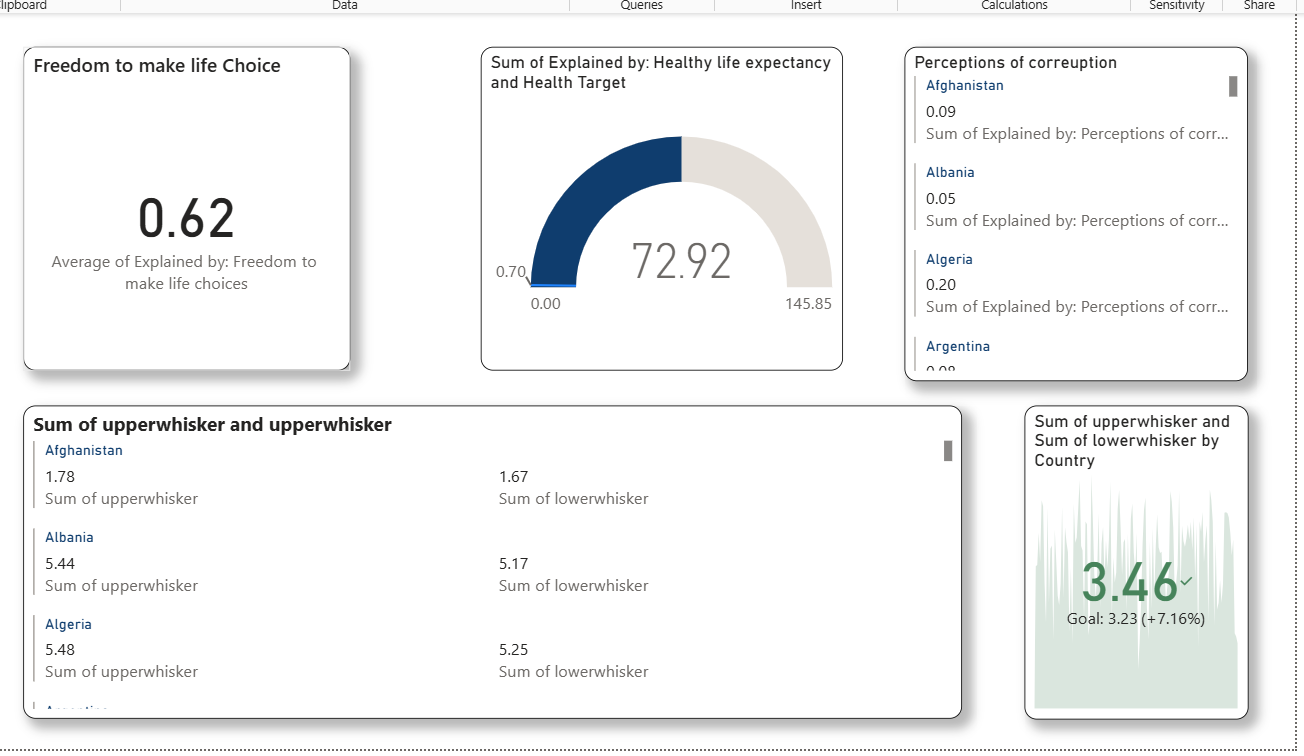

This screenshot's page, from the dashboard's own definition file:
{"tool":"powerbi","page":{"name":"Page 2","canvas":[1280,720],"ordinal":1},"visuals":[{"type":"gauge","fields":{"Y":["Sum(whr2024.Explained by: Healthy life expectancy)"],"TargetValue":["whr2024.Health Target"]},"box":[482.9,32.9,354.3,317.1],"z":0},{"type":"card","title":"Freedom to make life Choice","fields":{"Values":["Avg(whr2024.Explained by: Freedom to make life choices)"]},"box":[35.7,32.9,320,317.1],"z":1000},{"type":"multiRowCard","title":"Perceptions of  correuption","fields":{"Values":["whr2024.Country","Sum(whr2024.Explained by: Perceptions of corruption)"]},"box":[897.1,32.9,335.7,327.1],"z":2000},{"type":"multiRowCard","title":"Sum of upperwhisker and upperwhisker","fields":{"Values":["whr2024.Country","Sum(whr2024.upperwhisker)","Sum(whr2024.lowerwhisker)"]},"box":[35.6,383.8,918.7,306.7],"z":3000},{"type":"kpi","fields":{"Indicator":["Sum(whr2024.upperwhisker)"],"TrendLine":["whr2024.Country"],"Goal":["Sum(whr2024.lowerwhisker)"]},"box":[1015,384,218.9,306.9],"z":4000}]}

Visuals, with their boxes in screenshot pixels (x1, y1, x2, y2):
gauge - Sum(whr2024.Explained by: Healthy life expectancy) x whr2024.Health Target: <bbox>489, 53, 845, 372</bbox>
"Freedom to make life Choice" card: <bbox>39, 53, 361, 372</bbox>
"Perceptions of  correuption" multiRowCard: <bbox>905, 53, 1242, 382</bbox>
"Sum of upperwhisker and upperwhisker" multiRowCard: <bbox>39, 406, 962, 714</bbox>
kpi - Sum(whr2024.upperwhisker) x whr2024.Country: <bbox>1023, 406, 1243, 715</bbox>
